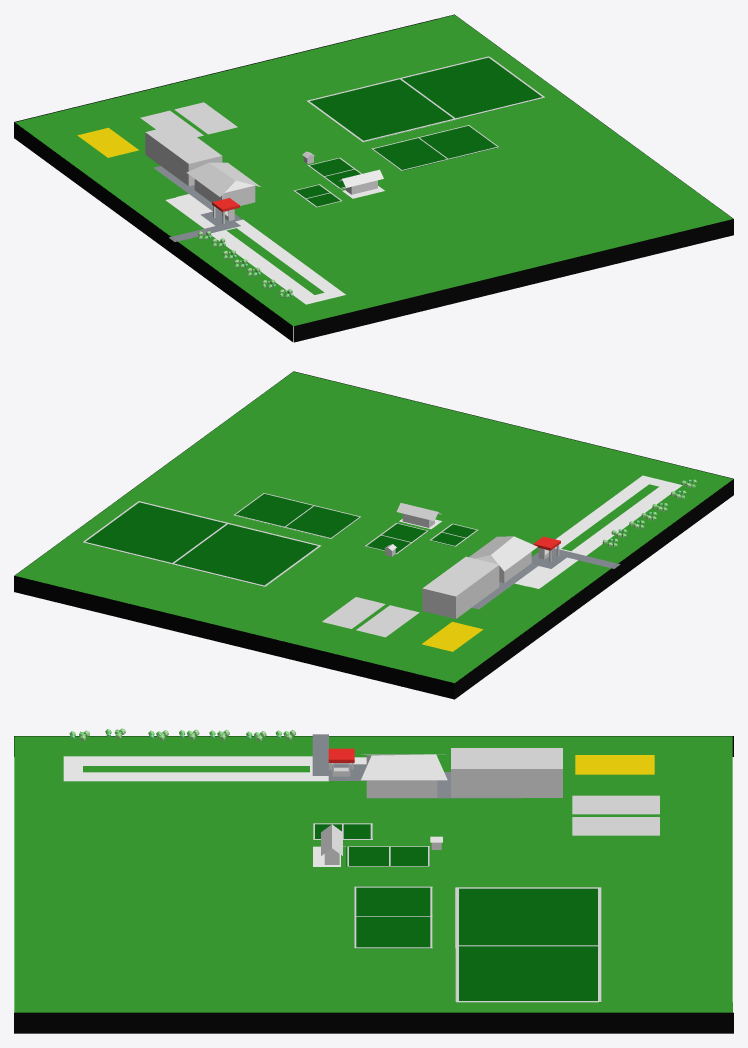
The model's file is layout.glb.
The picture shows the model from 3 angles, top to bottom: view 1: azimuth 30°, elevation 25°; view 2: azimuth 150°, elevation 25°; view 3: azimuth 270°, elevation 25°; orthographic projection. The views are drawn at different scales.
Visible parts, largest first — view 1: Plane.075, Plane.074, Plane.147, Plane.110, Plane.138, Plane.132, Cube.012, Plane.095, Plane.094, Plane.188, Cube.016, Plane.172 (+82 smaller); view 2: Plane.074, Plane.075, Plane.147, Plane.111, Plane.138, Cube.012, Plane.132, Plane.095, Plane.094, Cube.016, Plane.171, Plane.172 (+77 smaller); view 3: Plane.074, Plane.075, Plane.039, Plane.147, Cube.012, Plane.094, Plane.132, Plane.095, Cube.016, Plane.188, Plane.171, Plane.172 (+113 smaller).
Part boxes in pixels (x1,y1,x2,y2): Plane.075: (251, 183, 525, 294); Plane.074: (441, 134, 717, 248); Plane.147: (310, 57, 544, 141); Plane.110: (294, 219, 733, 342); Plane.138: (14, 122, 293, 341); Plane.132: (373, 126, 498, 171); Cube.012: (145, 124, 222, 186); Plane.095: (223, 134, 318, 190); Plane.094: (205, 139, 296, 205); Plane.188: (470, 38, 561, 97); Cube.016: (186, 162, 260, 196); Plane.172: (174, 102, 237, 134); Plane.074: (178, 382, 453, 496); Plane.075: (370, 429, 641, 542); Plane.147: (83, 502, 317, 586); Plane.111: (14, 576, 454, 699); Plane.138: (454, 479, 733, 699); Cube.012: (422, 556, 499, 618); Plane.132: (236, 493, 360, 538); Plane.095: (360, 540, 455, 597); Plane.094: (382, 544, 479, 610); Cube.016: (469, 536, 537, 571); Plane.171: (356, 605, 419, 637); Plane.172: (322, 597, 385, 628); Plane.074: (52, 903, 314, 1012); Plane.075: (52, 781, 314, 891); Plane.039: (14, 1012, 733, 1033); Plane.147: (459, 888, 600, 1002); Cube.012: (451, 748, 562, 797); Plane.094: (363, 792, 562, 823); Plane.132: (354, 887, 431, 948); Plane.095: (373, 823, 552, 840); Cube.016: (361, 754, 447, 780); Plane.188: (456, 1002, 649, 1012); Plane.171: (572, 795, 659, 814); Plane.172: (572, 817, 659, 835).
Size of the model in its own units: 265 by 23.27 by 289.
